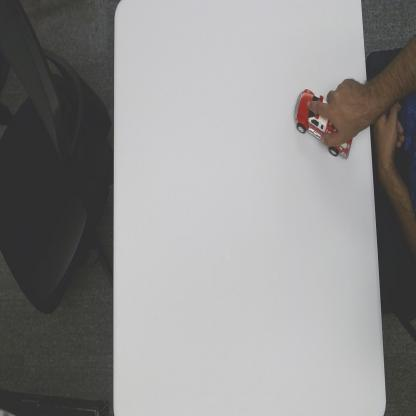Firetruck: (294, 87, 352, 163)
Hand: (312, 77, 372, 148)
